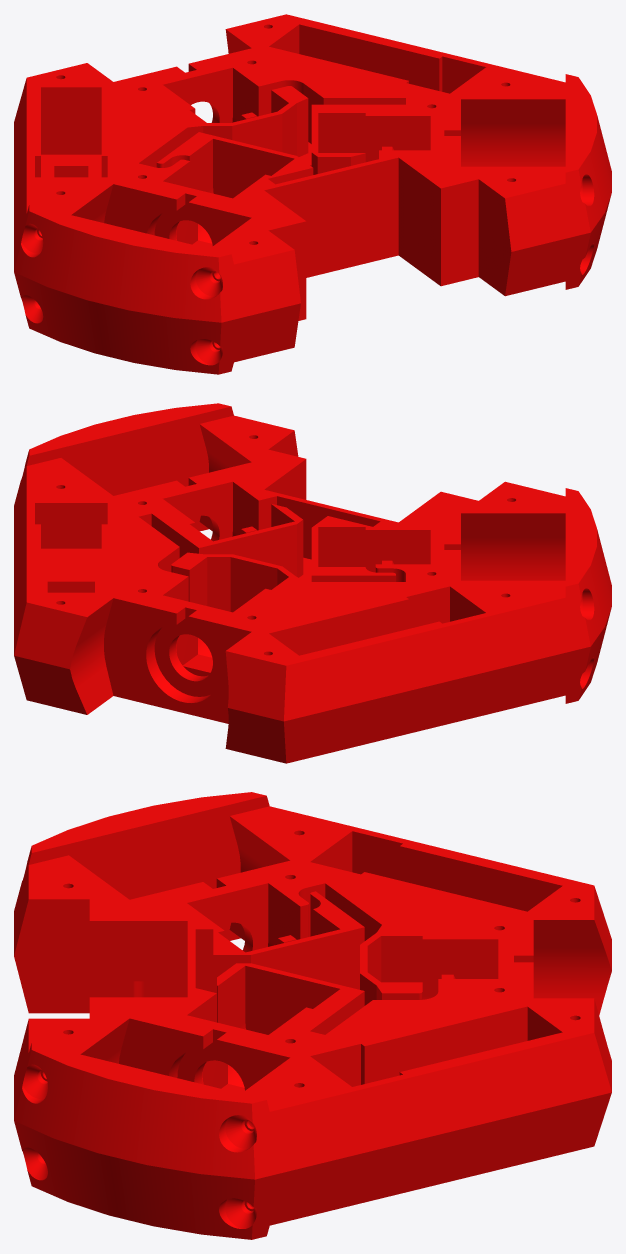
Rendered from Stab Rave Omni Chassis.dae.
3 views of the same model, one above another, from view 1: azimuth 30°, elevation 25°; view 2: azimuth 150°, elevation 25°; view 3: azimuth 270°, elevation 25° (orthographic). The views are drawn at different scales.
Parts seen in each view (by area): view 1: Stab Rave Omni Chassis, Stab Rave Omni Wheel Guard (×2); view 2: Stab Rave Omni Chassis, Stab Rave Omni Wheel Guard (×2); view 3: Stab Rave Omni Chassis, Stab Rave Omni Wheel Guard (×2).
Boxes of the visible parts, x1=… form: Stab Rave Omni Chassis: x1=14, y1=14, x2=565, y2=362; Stab Rave Omni Wheel Guard (×2): x1=14, y1=74, x2=611, y2=374; Stab Rave Omni Chassis: x1=14, y1=415, x2=565, y2=763; Stab Rave Omni Wheel Guard (×2): x1=14, y1=403, x2=611, y2=703; Stab Rave Omni Chassis: x1=14, y1=806, x2=611, y2=1225; Stab Rave Omni Wheel Guard (×2): x1=14, y1=792, x2=284, y2=1239.
Bounding box in the file's own units: 0.1974 × 0.1525 × 0.0384.
